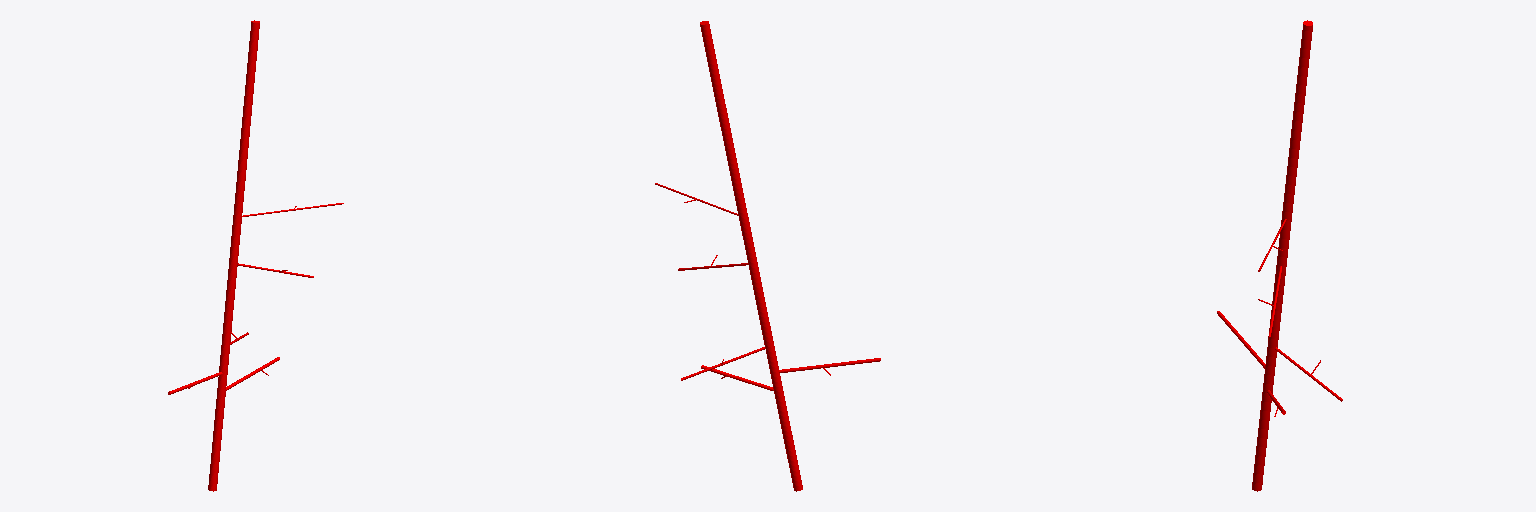
URDF robot description (tree_73.urdf):
<?xml version='1.0' encoding='UTF-8'?>
<robot name="tree_73.urdf">
  <link name="branch_0">
    <inertial>
      <origin xyz="0.0 0.0 0.0" rpy="0.0 -0.0 0.0"/>
      <mass value="0.1"/>
      <inertia ixx="0.001" ixy="0.0" ixz="0.0" iyy="0.001" iyz="0.0" izz="0.001"/>
    </inertial>
    <visual name="branch_0_visual">
      <geometry>
        <cylinder radius="0.07348103708840793" length="8.123602417013842"/>
      </geometry>
      <material name="semantic_material"/>
      <origin xyz="0.6291173253263702 0.37090396324048697 3.9956064243685185" rpy="-1.195480056148033e-17 0.18078363959621685 0.5327094937767882"/>
    </visual>
    <collision name="branch_0_collision">
      <geometry>
        <cylinder radius="0.07348103708840793" length="8.123602417013842"/>
      </geometry>
      <origin xyz="0.6291173253263702 0.37090396324048697 3.9956064243685185" rpy="-1.195480056148033e-17 0.18078363959621685 0.5327094937767882"/>
    </collision>
  </link>
  <link name="branch_1">
    <inertial>
      <origin xyz="0.0 0.0 0.0" rpy="0.0 -0.0 0.0"/>
      <mass value="0.1"/>
      <inertia ixx="0.001" ixy="0.0" ixz="0.0" iyy="0.001" iyz="0.0" izz="0.001"/>
    </inertial>
    <visual name="branch_1_visual">
      <geometry>
        <cylinder radius="0.018772738178772598" length="1.5262638958682078"/>
      </geometry>
      <material name="semantic_material"/>
      <origin xyz="0.0 0.0 0.0" rpy="0.0 -0.0 0.0"/>
    </visual>
    <collision name="branch_1_collision">
      <geometry>
        <cylinder radius="0.018772738178772598" length="1.5262638958682078"/>
      </geometry>
      <origin xyz="0.0 0.0 0.0" rpy="0.0 -0.0 0.0"/>
    </collision>
  </link>
  <link name="branch_2">
    <inertial>
      <origin xyz="0.0 0.0 0.0" rpy="0.0 -0.0 0.0"/>
      <mass value="0.1"/>
      <inertia ixx="0.001" ixy="0.0" ixz="0.0" iyy="0.001" iyz="0.0" izz="0.001"/>
    </inertial>
    <visual name="branch_2_visual">
      <geometry>
        <cylinder radius="0.01" length="0.2601567552991193"/>
      </geometry>
      <material name="semantic_material"/>
      <origin xyz="0.0 0.0 0.0" rpy="0.0 -0.0 0.0"/>
    </visual>
    <collision name="branch_2_collision">
      <geometry>
        <cylinder radius="0.01" length="0.2601567552991193"/>
      </geometry>
      <origin xyz="0.0 0.0 0.0" rpy="0.0 -0.0 0.0"/>
    </collision>
  </link>
  <link name="branch_3">
    <inertial>
      <origin xyz="0.0 0.0 0.0" rpy="0.0 -0.0 0.0"/>
      <mass value="0.1"/>
      <inertia ixx="0.001" ixy="0.0" ixz="0.0" iyy="0.001" iyz="0.0" izz="0.001"/>
    </inertial>
    <visual name="branch_3_visual">
      <geometry>
        <cylinder radius="0.020897667019397687" length="1.475379890452738"/>
      </geometry>
      <material name="semantic_material"/>
      <origin xyz="0.0 0.0 0.0" rpy="0.0 -0.0 0.0"/>
    </visual>
    <collision name="branch_3_collision">
      <geometry>
        <cylinder radius="0.020897667019397687" length="1.475379890452738"/>
      </geometry>
      <origin xyz="0.0 0.0 0.0" rpy="0.0 -0.0 0.0"/>
    </collision>
  </link>
  <link name="branch_4">
    <inertial>
      <origin xyz="0.0 0.0 0.0" rpy="0.0 -0.0 0.0"/>
      <mass value="0.1"/>
      <inertia ixx="0.001" ixy="0.0" ixz="0.0" iyy="0.001" iyz="0.0" izz="0.001"/>
    </inertial>
    <visual name="branch_4_visual">
      <geometry>
        <cylinder radius="0.01" length="0.2652159911364255"/>
      </geometry>
      <material name="semantic_material"/>
      <origin xyz="0.0 0.0 0.0" rpy="0.0 -0.0 0.0"/>
    </visual>
    <collision name="branch_4_collision">
      <geometry>
        <cylinder radius="0.01" length="0.2652159911364255"/>
      </geometry>
      <origin xyz="0.0 0.0 0.0" rpy="0.0 -0.0 0.0"/>
    </collision>
  </link>
  <link name="branch_5">
    <inertial>
      <origin xyz="0.0 0.0 0.0" rpy="0.0 -0.0 0.0"/>
      <mass value="0.1"/>
      <inertia ixx="0.001" ixy="0.0" ixz="0.0" iyy="0.001" iyz="0.0" izz="0.001"/>
    </inertial>
    <visual name="branch_5_visual">
      <geometry>
        <cylinder radius="0.028400895987748257" length="1.6665313863527367"/>
      </geometry>
      <material name="semantic_material"/>
      <origin xyz="0.0 0.0 0.0" rpy="0.0 -0.0 0.0"/>
    </visual>
    <collision name="branch_5_collision">
      <geometry>
        <cylinder radius="0.028400895987748257" length="1.6665313863527367"/>
      </geometry>
      <origin xyz="0.0 0.0 0.0" rpy="0.0 -0.0 0.0"/>
    </collision>
  </link>
  <link name="branch_6">
    <inertial>
      <origin xyz="0.0 0.0 0.0" rpy="0.0 -0.0 0.0"/>
      <mass value="0.1"/>
      <inertia ixx="0.001" ixy="0.0" ixz="0.0" iyy="0.001" iyz="0.0" izz="0.001"/>
    </inertial>
    <visual name="branch_6_visual">
      <geometry>
        <cylinder radius="0.01" length="0.21479560265408976"/>
      </geometry>
      <material name="semantic_material"/>
      <origin xyz="0.0 0.0 0.0" rpy="0.0 -0.0 0.0"/>
    </visual>
    <collision name="branch_6_collision">
      <geometry>
        <cylinder radius="0.01" length="0.21479560265408976"/>
      </geometry>
      <origin xyz="0.0 0.0 0.0" rpy="0.0 -0.0 0.0"/>
    </collision>
  </link>
  <link name="branch_7">
    <inertial>
      <origin xyz="0.0 0.0 0.0" rpy="0.0 -0.0 0.0"/>
      <mass value="0.1"/>
      <inertia ixx="0.001" ixy="0.0" ixz="0.0" iyy="0.001" iyz="0.0" izz="0.001"/>
    </inertial>
    <visual name="branch_7_visual">
      <geometry>
        <cylinder radius="0.028747297756938163" length="1.2837810978408337"/>
      </geometry>
      <material name="semantic_material"/>
      <origin xyz="0.0 0.0 0.0" rpy="0.0 -0.0 0.0"/>
    </visual>
    <collision name="branch_7_collision">
      <geometry>
        <cylinder radius="0.028747297756938163" length="1.2837810978408337"/>
      </geometry>
      <origin xyz="0.0 0.0 0.0" rpy="0.0 -0.0 0.0"/>
    </collision>
  </link>
  <link name="branch_8">
    <inertial>
      <origin xyz="0.0 0.0 0.0" rpy="0.0 -0.0 0.0"/>
      <mass value="0.1"/>
      <inertia ixx="0.001" ixy="0.0" ixz="0.0" iyy="0.001" iyz="0.0" izz="0.001"/>
    </inertial>
    <visual name="branch_8_visual">
      <geometry>
        <cylinder radius="0.01" length="0.18989986938879083"/>
      </geometry>
      <material name="semantic_material"/>
      <origin xyz="0.0 0.0 0.0" rpy="0.0 -0.0 0.0"/>
    </visual>
    <collision name="branch_8_collision">
      <geometry>
        <cylinder radius="0.01" length="0.18989986938879083"/>
      </geometry>
      <origin xyz="0.0 0.0 0.0" rpy="0.0 -0.0 0.0"/>
    </collision>
  </link>
  <link name="branch_9">
    <inertial>
      <origin xyz="0.0 0.0 0.0" rpy="0.0 -0.0 0.0"/>
      <mass value="0.1"/>
      <inertia ixx="0.001" ixy="0.0" ixz="0.0" iyy="0.001" iyz="0.0" izz="0.001"/>
    </inertial>
    <visual name="branch_9_visual">
      <geometry>
        <cylinder radius="0.014940646228747363" length="1.853851853861722"/>
      </geometry>
      <material name="semantic_material"/>
      <origin xyz="0.0 0.0 0.0" rpy="0.0 -0.0 0.0"/>
    </visual>
    <collision name="branch_9_collision">
      <geometry>
        <cylinder radius="0.014940646228747363" length="1.853851853861722"/>
      </geometry>
      <origin xyz="0.0 0.0 0.0" rpy="0.0 -0.0 0.0"/>
    </collision>
  </link>
  <link name="branch_10">
    <inertial>
      <origin xyz="0.0 0.0 0.0" rpy="0.0 -0.0 0.0"/>
      <mass value="0.1"/>
      <inertia ixx="0.001" ixy="0.0" ixz="0.0" iyy="0.001" iyz="0.0" izz="0.001"/>
    </inertial>
    <visual name="branch_10_visual">
      <geometry>
        <cylinder radius="0.01" length="0.2084415321395551"/>
      </geometry>
      <material name="semantic_material"/>
      <origin xyz="0.0 0.0 0.0" rpy="0.0 -0.0 0.0"/>
    </visual>
    <collision name="branch_10_collision">
      <geometry>
        <cylinder radius="0.01" length="0.2084415321395551"/>
      </geometry>
      <origin xyz="0.0 0.0 0.0" rpy="0.0 -0.0 0.0"/>
    </collision>
  </link>
  <joint name="joint_0_1" type="fixed">
    <parent link="branch_0"/>
    <child link="branch_1"/>
    <axis xyz="1. 0. 0."/>
    <origin xyz="1.3225301653197812 0.2699985721089657 3.6095038083154485" rpy="-2.8344507676685016 1.2146050536704516 -2.9386976798115096"/>
  </joint>
  <joint name="joint_0_3" type="fixed">
    <parent link="branch_0"/>
    <child link="branch_3"/>
    <axis xyz="1. 0. 0."/>
    <origin xyz="0.8878711410603823 0.7292798838785789 2.250195495840403" rpy="2.98407178399682 1.2902137905752422 -2.520149663678335"/>
  </joint>
  <joint name="joint_0_5" type="fixed">
    <parent link="branch_0"/>
    <child link="branch_5"/>
    <axis xyz="1. 0. 0."/>
    <origin xyz="-0.41900201098900325 -0.18445387231425983 2.136082347042363" rpy="0.07453186776961603 1.413907813276137 -2.598964051840603"/>
  </joint>
  <joint name="joint_0_7" type="fixed">
    <parent link="branch_0"/>
    <child link="branch_7"/>
    <axis xyz="1. 0. 0."/>
    <origin xyz="0.8851752116399699 0.2749572026705027 1.793527965338141" rpy="-0.3454587856981948 1.382614990936812 -0.16178219757495393"/>
  </joint>
  <joint name="joint_0_9" type="fixed">
    <parent link="branch_0"/>
    <child link="branch_9"/>
    <axis xyz="1. 0. 0."/>
    <origin xyz="1.63877949606857 0.23222406856702765 4.655517095958539" rpy="-1.6131528744708892 1.446738173369419 -1.8307377028668943"/>
  </joint>
  <joint name="joint_1_2" type="fixed">
    <parent link="branch_0"/>
    <child link="branch_2"/>
    <axis xyz="1. 0. 0."/>
    <origin xyz="1.4369820113433034 0.13929593256003978 3.626995217635688" rpy="-1.0972184659312312 -0.34228135502221324 3.0252797567509013"/>
  </joint>
  <joint name="joint_3_4" type="fixed">
    <parent link="branch_0"/>
    <child link="branch_4"/>
    <axis xyz="1. 0. 0."/>
    <origin xyz="0.8689007993997113 0.8487440980055049 2.3216686219042697" rpy="0.817241264627539 -0.20016899274649746 -2.2703750796122684"/>
  </joint>
  <joint name="joint_5_6" type="fixed">
    <parent link="branch_0"/>
    <child link="branch_6"/>
    <axis xyz="1. 0. 0."/>
    <origin xyz="-0.42859124039634283 -0.12154737530782277 2.073326227949056" rpy="-2.132697818112216 0.5804914953512817 1.0251469156215116"/>
  </joint>
  <joint name="joint_7_8" type="fixed">
    <parent link="branch_0"/>
    <child link="branch_8"/>
    <axis xyz="1. 0. 0."/>
    <origin xyz="1.1604769521120646 0.28585837412174636 1.771915546494548" rpy="-2.463758187181589 0.6407256034214208 -2.607835547877221"/>
  </joint>
  <joint name="joint_9_10" type="fixed">
    <parent link="branch_0"/>
    <child link="branch_10"/>
    <axis xyz="1. 0. 0."/>
    <origin xyz="1.7572908332413353 0.299633349851289 4.642654747472882" rpy="1.6920569721364025 0.05755489820410764 2.443816087788752"/>
  </joint>
  <material name="semantic_material">
    <color rgba="1. 0. 0. 1."/>
  </material>
</robot>

--- Facts derived from the render (not from the file) ---
Views: 3 orthographic renders of the robot side by side, from view 1: azimuth 30°, elevation 25°; view 2: azimuth 150°, elevation 25°; view 3: azimuth 270°, elevation 25°.
Robot: tree_73.urdf — 11 links, 10 joints (10 fixed); root link branch_0; default pose: every joint at zero.
Visible links, largest first — view 1: branch_0; view 2: branch_0; view 3: branch_0.
Boxes of the visible links, bbox=[...] form: branch_0: bbox=[208, 20, 259, 491]; branch_0: bbox=[700, 21, 802, 491]; branch_0: bbox=[1252, 20, 1312, 491].
Bounding box of the posed robot: 3.71 × 1.83 × 8.02 m (x, y, z).
Geometry: primitives only (box / cylinder / sphere), no mesh files.
